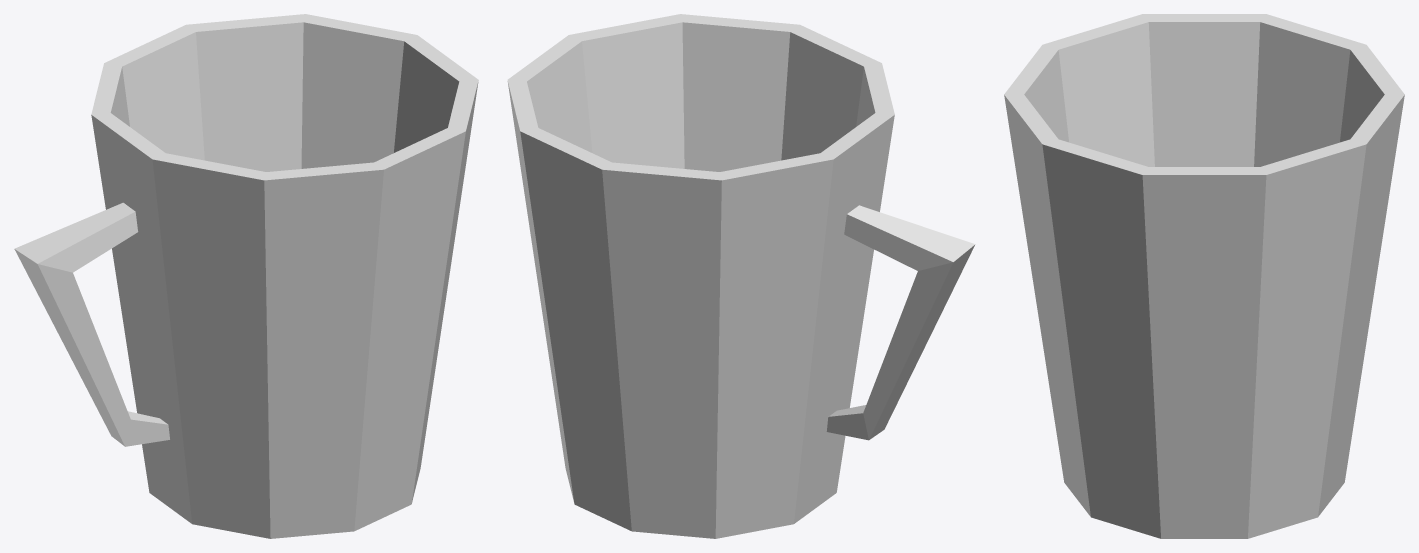
The model's file is cup1.fbx.
The picture shows the model from 3 angles, left to right: view 1: azimuth 30°, elevation 25°; view 2: azimuth 150°, elevation 25°; view 3: azimuth 270°, elevation 25°; orthographic projection.
Visible parts, largest first — view 1: Cylinder; view 2: Cylinder; view 3: Cylinder.
Boxes of the visible parts, <box> form: Cylinder: <box>14,14,478,538</box>; Cylinder: <box>507,14,975,538</box>; Cylinder: <box>1004,14,1404,538</box>.
Bounding box in the file's own units: 1.15 × 0.9908 × 0.9274.
